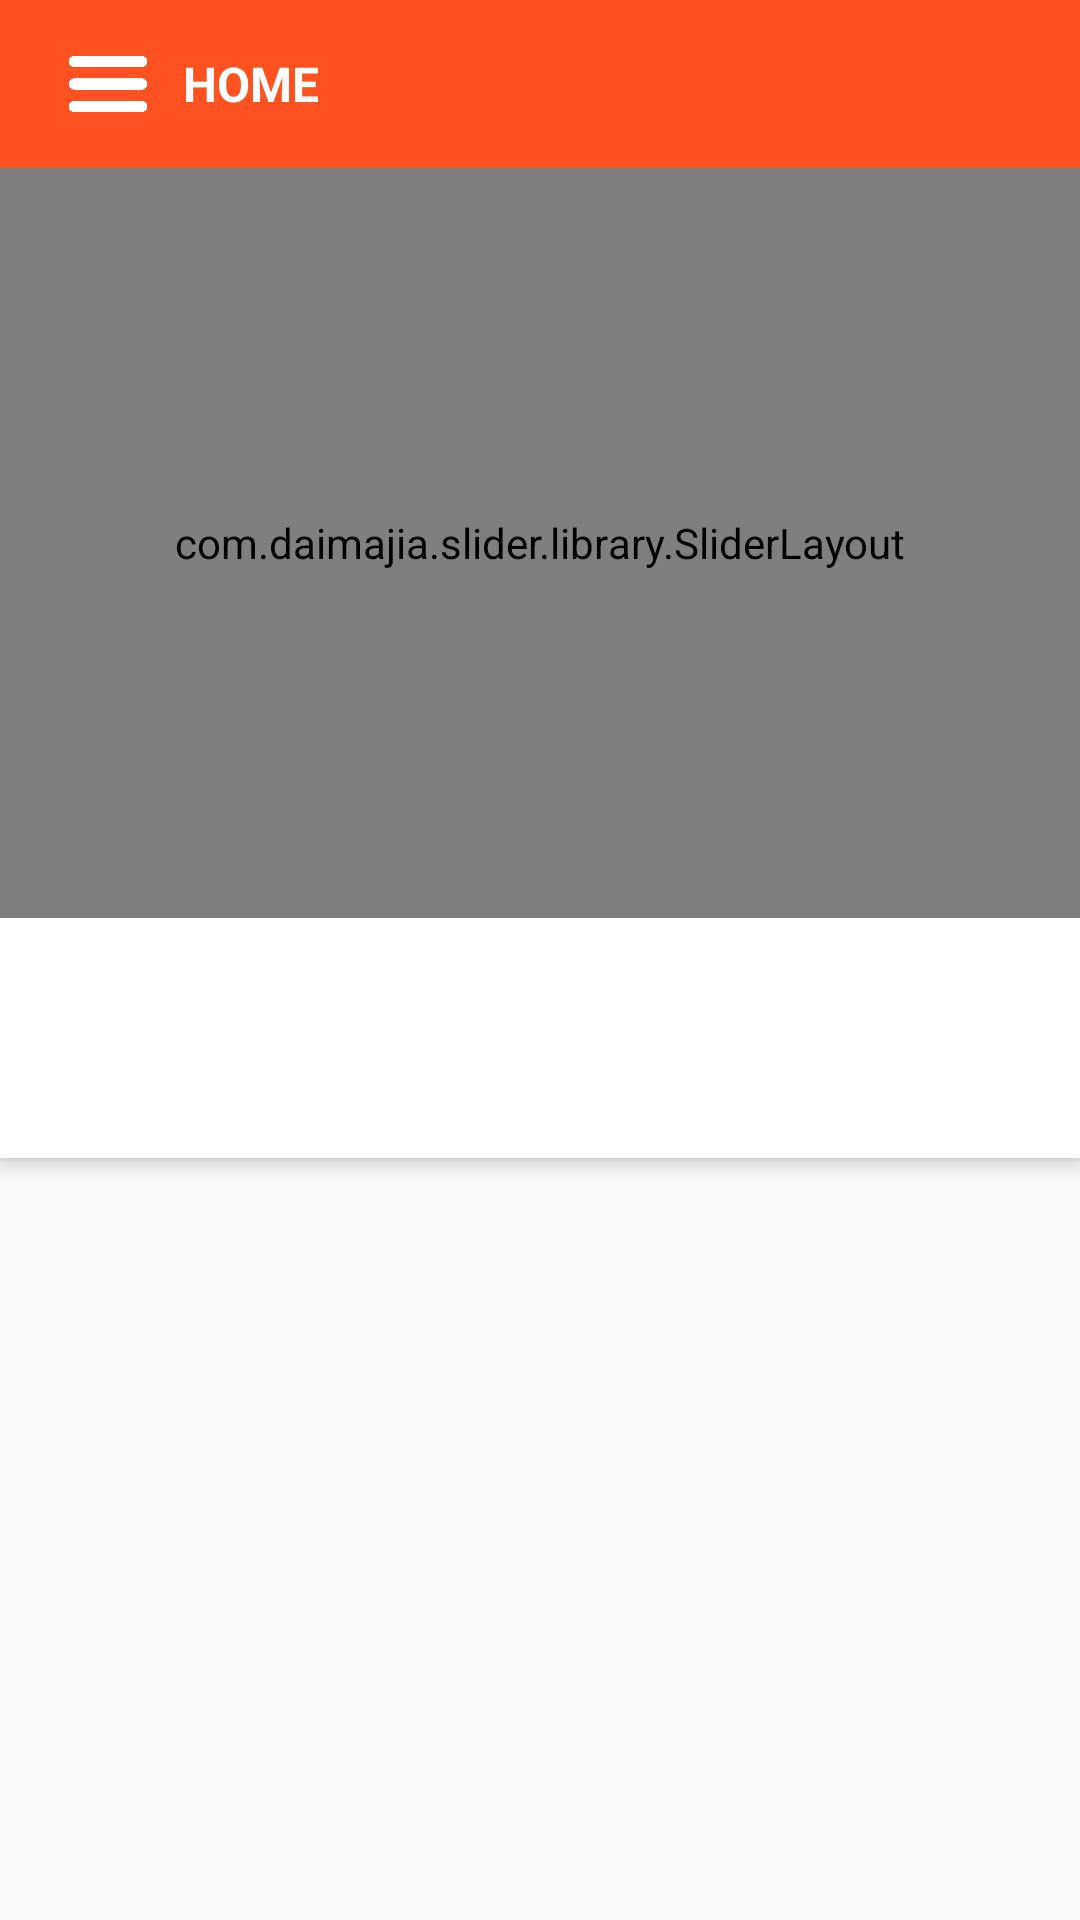

Icon click points for this 1080 x 1920 phone screenshot, format (x,y):
nav: (108,84)
